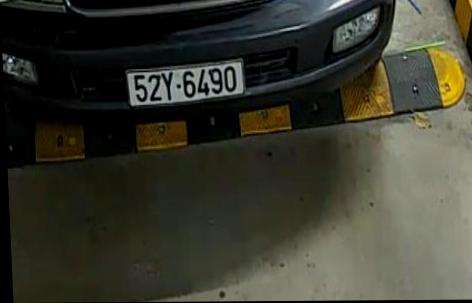License_Plate: (117, 50, 250, 107)
